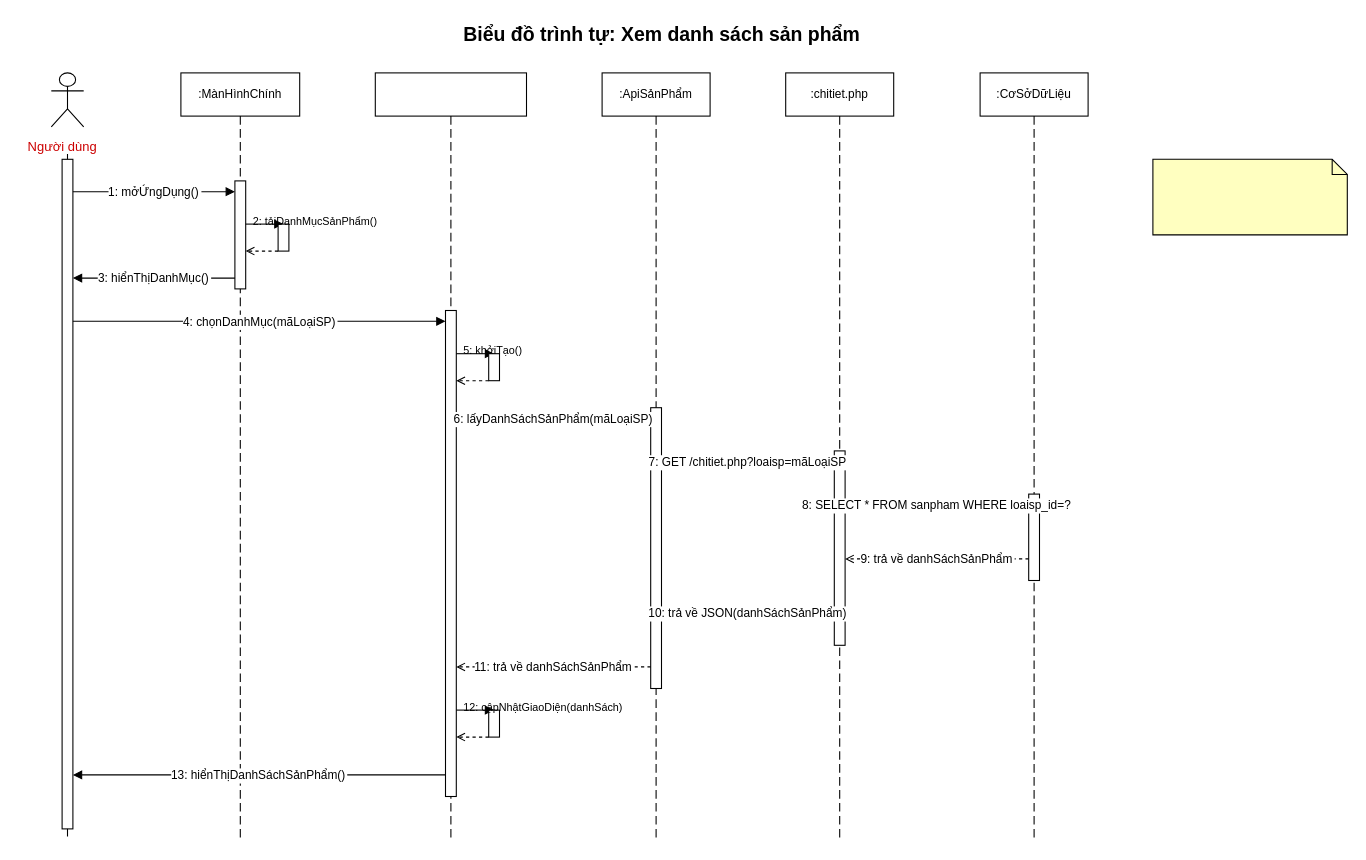
Some shapes in this 1366 by 860 pixel diagram are drawn without their labels. The centre of each missing label's shape, as x and y in pixels:
:MànHìnhDanhMục: point (450, 94)
Biểu đồ UML chuẩn Người dùng chọn danh mục Hệ thống tải và hiển thị sản phẩm: point (1249, 196)
